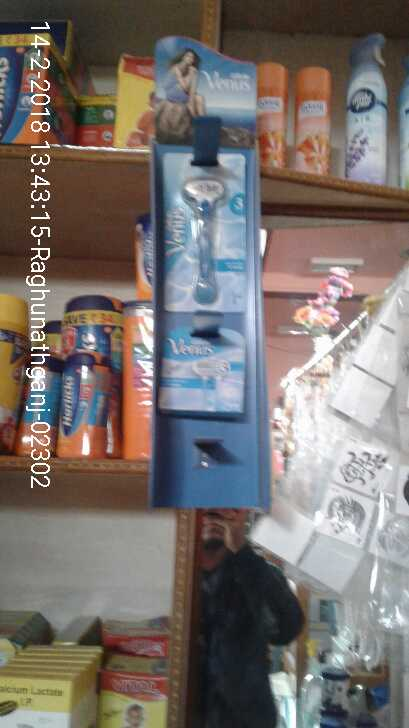beauty: (163, 150, 243, 312), (159, 325, 242, 422)
home: (345, 28, 389, 183)
